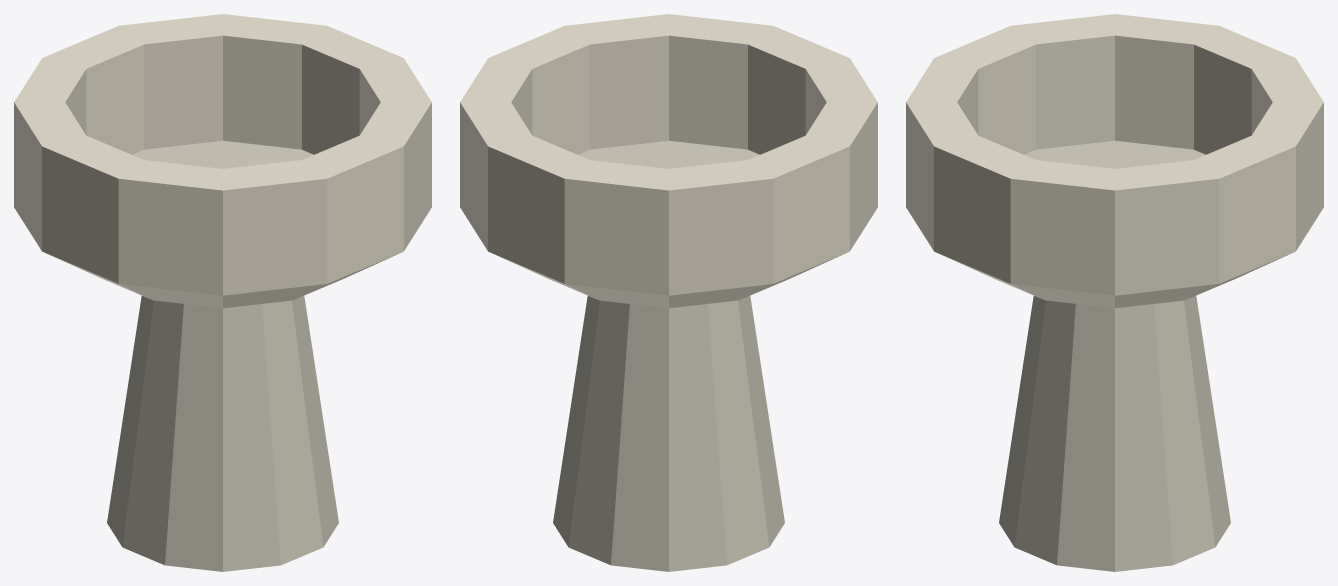
Rendered from wash-basin.glb.
3 views of the same model, side by side, from view 1: azimuth 30°, elevation 25°; view 2: azimuth 150°, elevation 25°; view 3: azimuth 270°, elevation 25° (orthographic).
Parts seen in each view (by area): view 1: wash-basin; view 2: wash-basin; view 3: wash-basin.
Boxes of the visible parts, <box> form: wash-basin: <box>14,14,431,571</box>; wash-basin: <box>460,14,877,571</box>; wash-basin: <box>906,14,1323,571</box>.
Bounding box in the file's own units: 0.9 × 1 × 0.9.
